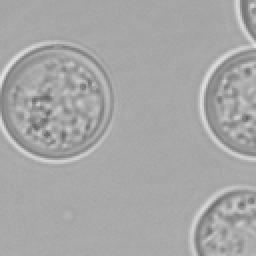picoshell: (2, 42, 112, 162), (198, 44, 254, 160), (188, 186, 254, 254), (234, 0, 254, 42)
